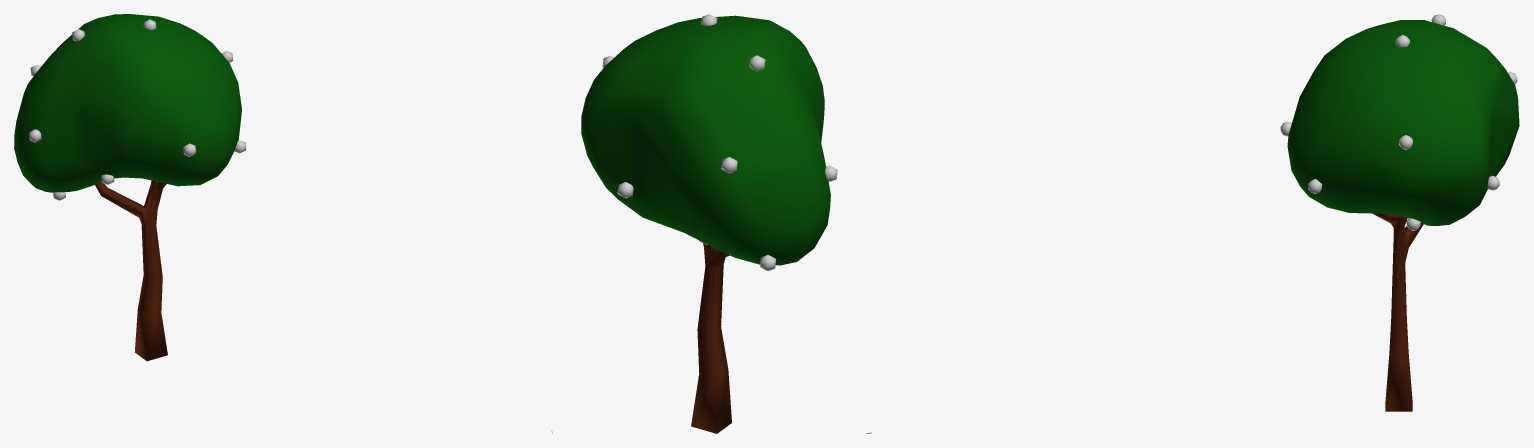
File: appleTree.obj
3 renders of one model, left to right at view 1: azimuth 30°, elevation 25°; view 2: azimuth 150°, elevation 25°; view 3: azimuth 270°, elevation 25°, orthographic. The views are drawn at different scales.
Bounding box in the file's own units: 5.71 × 6.61 × 10.51.
